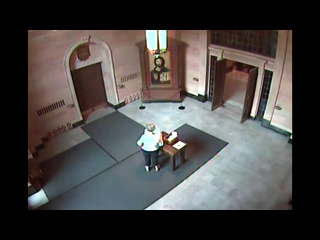Assault: (136, 122, 163, 172)
